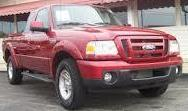front_view: (79, 32, 182, 95)
headlight: (82, 34, 126, 61)
side_glass: (24, 8, 71, 43)
